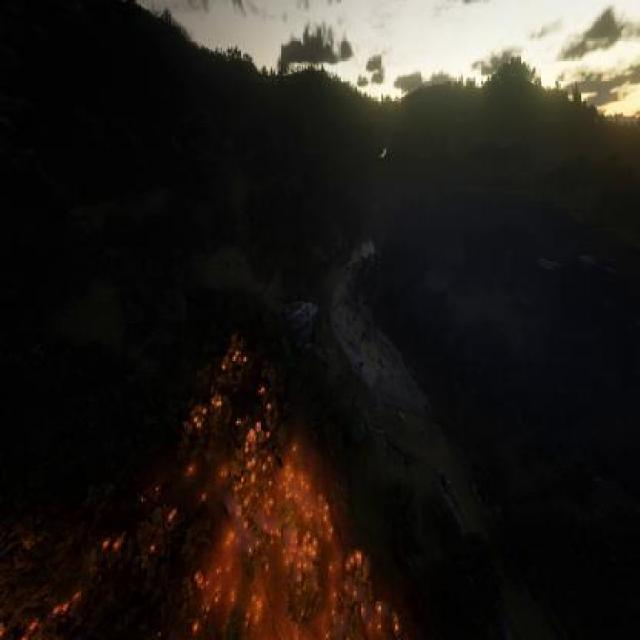Fire: (0, 341, 474, 640)
